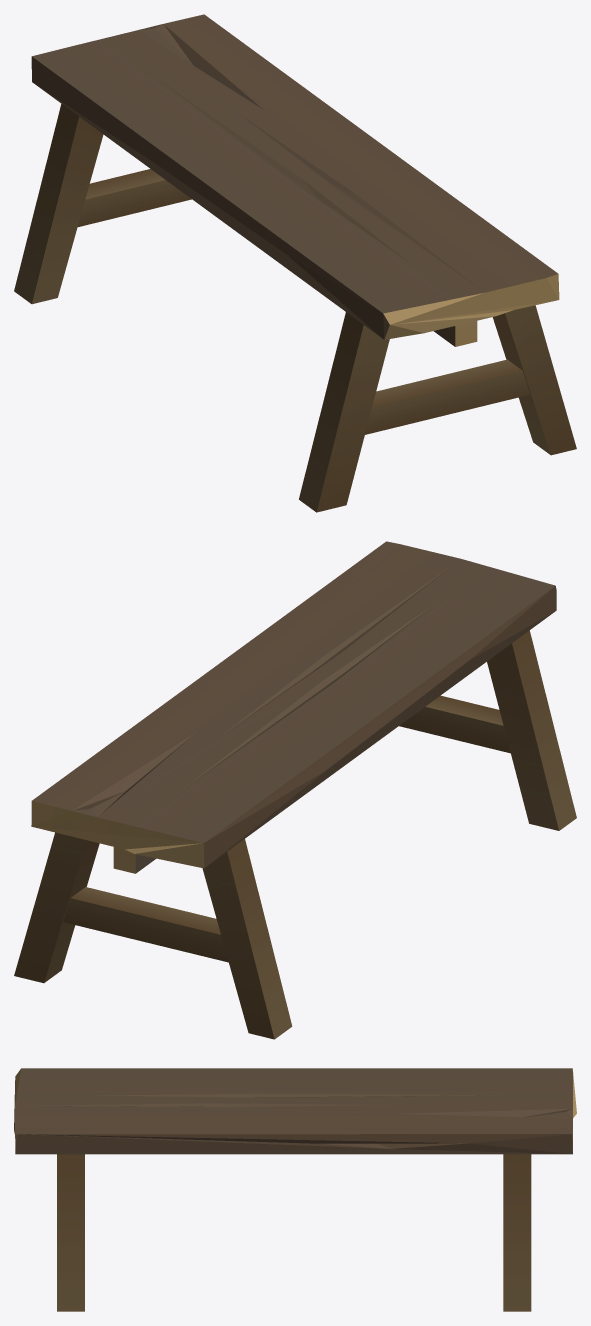
The model's file is Bench.fbx.
The picture shows the model from 3 angles, top to bottom: view 1: azimuth 30°, elevation 25°; view 2: azimuth 150°, elevation 25°; view 3: azimuth 270°, elevation 25°; orthographic projection. The views are drawn at different scales.
Visible parts, largest first — view 1: polySurface9713; view 2: polySurface9713; view 3: polySurface9713.
Boxes of the visible parts, x1=… form: polySurface9713: x1=14, y1=14, x2=576, y2=512; polySurface9713: x1=14, y1=541, x2=576, y2=1039; polySurface9713: x1=14, y1=1068, x2=576, y2=1311.
Bounding box in the file's own units: 106 × 80.27 × 252.
